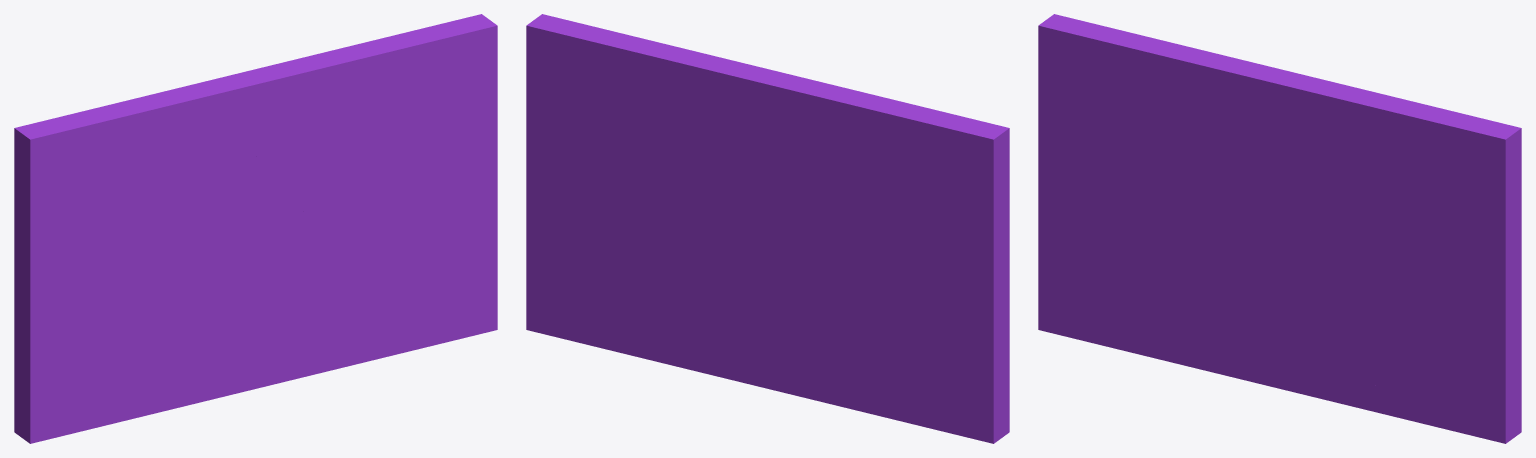
Rendered from Barrier_124_chunks.fbx.
3 views of the same model, side by side, from view 1: azimuth 30°, elevation 25°; view 2: azimuth 150°, elevation 25°; view 3: azimuth 330°, elevation 25° (orthographic).
Visible parts, largest first — view 1: Barrier_124_0, Barrier_124_2, Barrier_124_1, Barrier_124_6, Barrier_124_5, Barrier_124_4; view 2: Barrier_124_0, Barrier_124_2, Barrier_124_6, Barrier_124_4, Barrier_124_5, Barrier_124_3; view 3: Barrier_124_0, Barrier_124_2, Barrier_124_1, Barrier_124_6, Barrier_124_5, Barrier_124_4.
Part boxes in pixels (<box>): Barrier_124_0: <box>14,78,264,443</box>; Barrier_124_2: <box>219,14,497,223</box>; Barrier_124_1: <box>247,209,497,335</box>; Barrier_124_6: <box>67,258,337,434</box>; Barrier_124_5: <box>195,315,398,403</box>; Barrier_124_4: <box>334,289,474,353</box>; Barrier_124_0: <box>765,76,1009,443</box>; Barrier_124_2: <box>526,14,794,274</box>; Barrier_124_6: <box>685,233,973,438</box>; Barrier_124_4: <box>526,249,689,354</box>; Barrier_124_5: <box>629,326,837,405</box>; Barrier_124_3: <box>677,278,754,353</box>; Barrier_124_0: <box>1038,14,1272,338</box>; Barrier_124_2: <box>1252,64,1521,376</box>; Barrier_124_1: <box>1255,210,1521,443</box>; Barrier_124_6: <box>1075,249,1345,369</box>; Barrier_124_5: <box>1203,350,1406,419</box>; Barrier_124_4: <box>1342,325,1521,440</box>.
Size of the model in its own units: 462 by 288 by 27.2.
